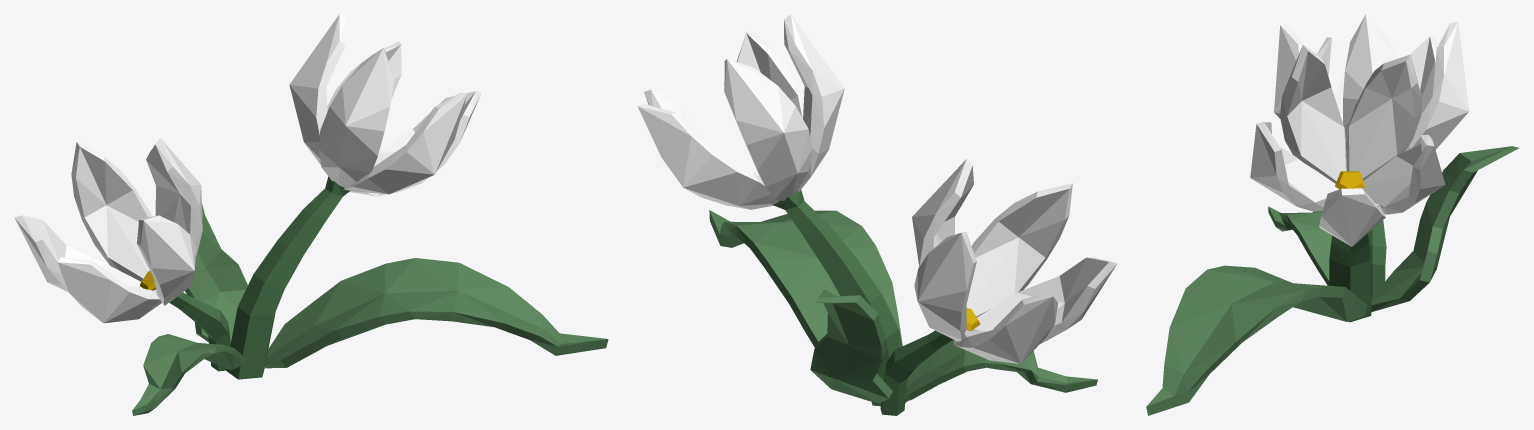
File: flower_1.obj
3 renders of one model, left to right at view 1: azimuth 30°, elevation 25°; view 2: azimuth 150°, elevation 25°; view 3: azimuth 270°, elevation 25°, orthographic. The views are drawn at different scales.
Parts seen in each view (by area): view 1: flower_1; view 2: flower_1; view 3: flower_1.
Boxes of the visible parts, x1,y1,x2,y2 form: flower_1: [14, 14, 608, 415]; flower_1: [637, 14, 1117, 415]; flower_1: [1146, 14, 1518, 415].
Bounding box in the file's own units: 0.9778 × 0.6285 × 0.6514.
